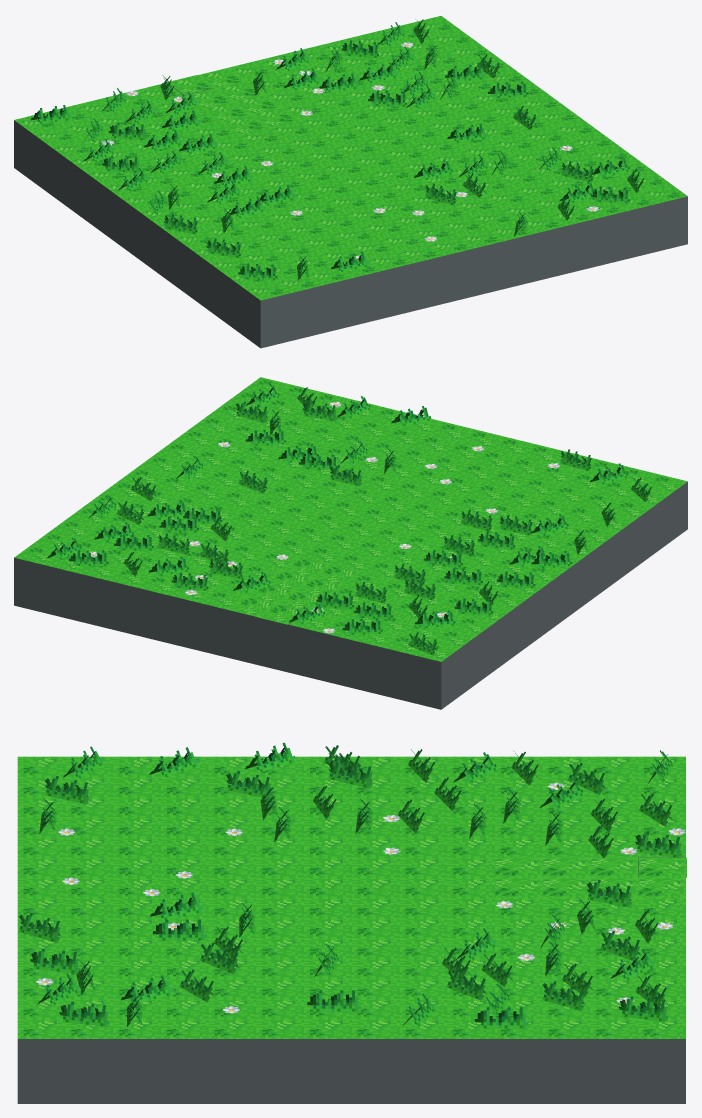
Rendered from green.glb.
3 views of the same model, one above another, from view 1: azimuth 30°, elevation 25°; view 2: azimuth 150°, elevation 25°; view 3: azimuth 270°, elevation 25° (orthographic). The views are drawn at different scales.
Visible parts, largest first — view 1: ground; view 2: ground; view 3: ground, grass_055, grass_026, grass_042, grass_080, grass_039, grass_025, grass_017, grass_051, grass_018, grass_044, grass_08 (+14 smaller).
Part boxes in pixels (left/top/right/bottom): ground: left=14, top=16, right=687, bottom=348; ground: left=14, top=377, right=687, bottom=709; ground: left=17, top=756, right=686, bottom=1103; grass_055: left=474, top=1007, right=528, bottom=1028; grass_026: left=307, top=990, right=360, bottom=1011; grass_042: left=153, top=919, right=206, bottom=940; grass_080: left=30, top=948, right=80, bottom=973; grass_039: left=59, top=1001, right=109, bottom=1026; grass_025: left=619, top=996, right=668, bottom=1021; grass_017: left=635, top=831, right=682, bottom=858; grass_051: left=44, top=776, right=88, bottom=804; grass_018: left=586, top=879, right=631, bottom=907; grass_044: left=150, top=892, right=204, bottom=920; grass_08: left=328, top=760, right=372, bottom=788.
Size of the model in its own units: 14.01 by 1.92 by 14.12.
1 material, 1 textured.
